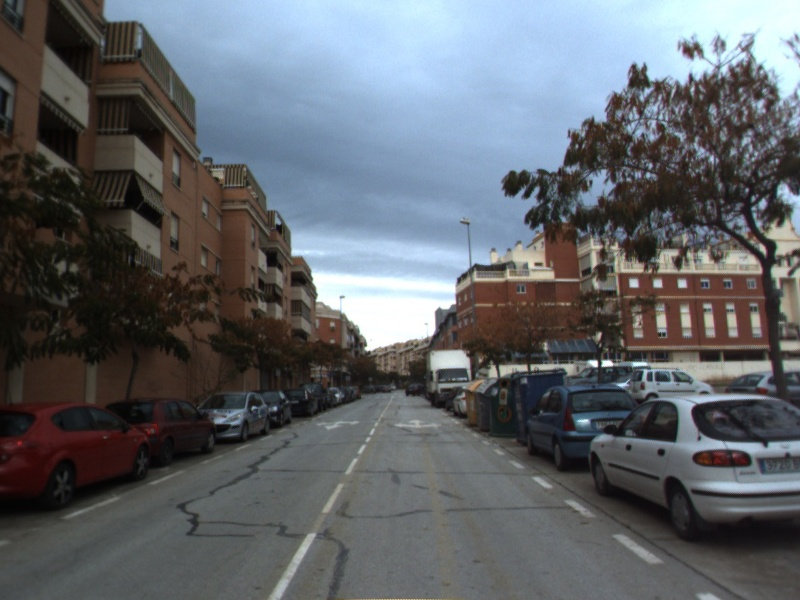STRAIGHT_LEFT_RIGHT: (391, 417, 444, 431)
